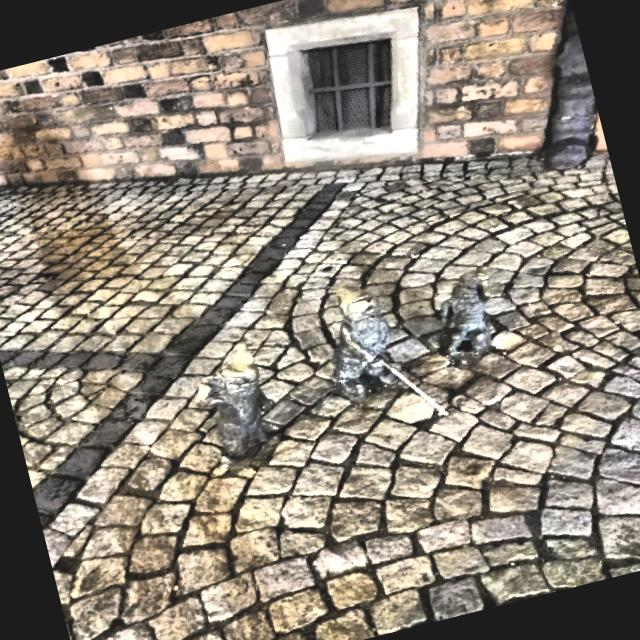Gluchak: (195, 342, 269, 462)
Slepak: (332, 289, 447, 415)
W-Skers: (440, 274, 492, 361)
